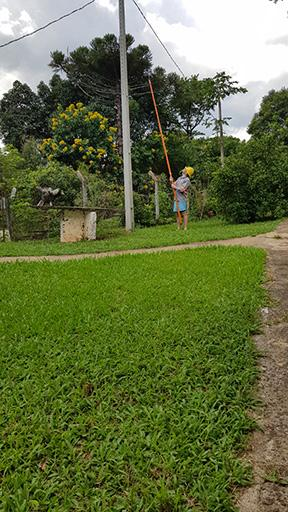Vara_Manobra: (148, 79, 182, 225)
